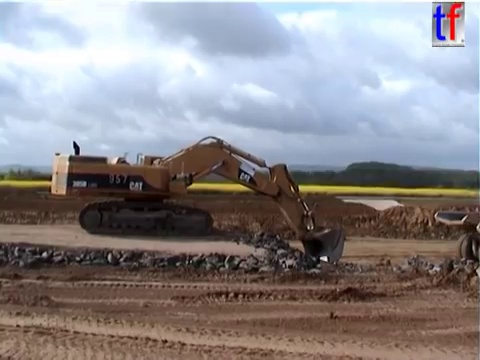excavator: (47, 133, 347, 273)
truck: (431, 208, 480, 265)
